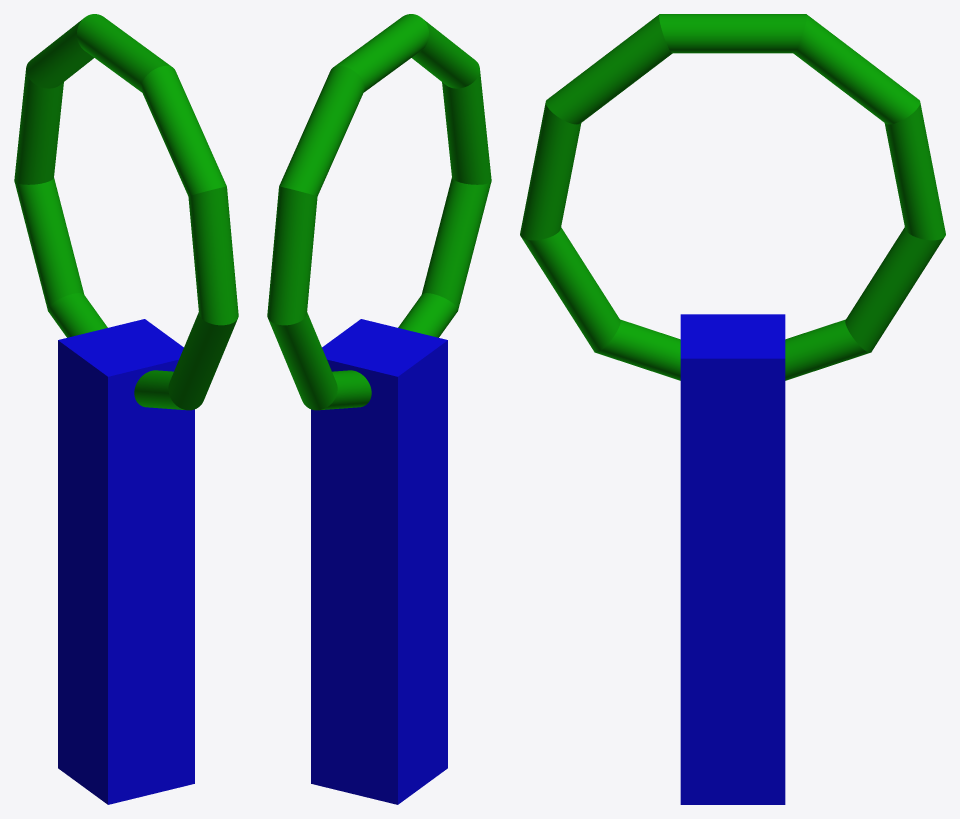
Rendered from topCircle.fbx.
The picture shows the model from 3 angles, left to right: view 1: azimuth 30°, elevation 25°; view 2: azimuth 150°, elevation 25°; view 3: azimuth 270°, elevation 25°; orthographic projection. The views are drawn at different scales.
Visible parts, largest first — view 1: Cube, Torus; view 2: Cube, Torus; view 3: Cube, Torus.
Part boxes in pixels (x1,y1,x2,y2): Cube: [58, 319, 194, 804]; Torus: [14, 14, 238, 410]; Cube: [311, 319, 447, 804]; Torus: [267, 14, 491, 410]; Cube: [680, 314, 785, 804]; Torus: [520, 14, 945, 380].
Bounding box in the file's own units: 30.26 × 245 × 123.
